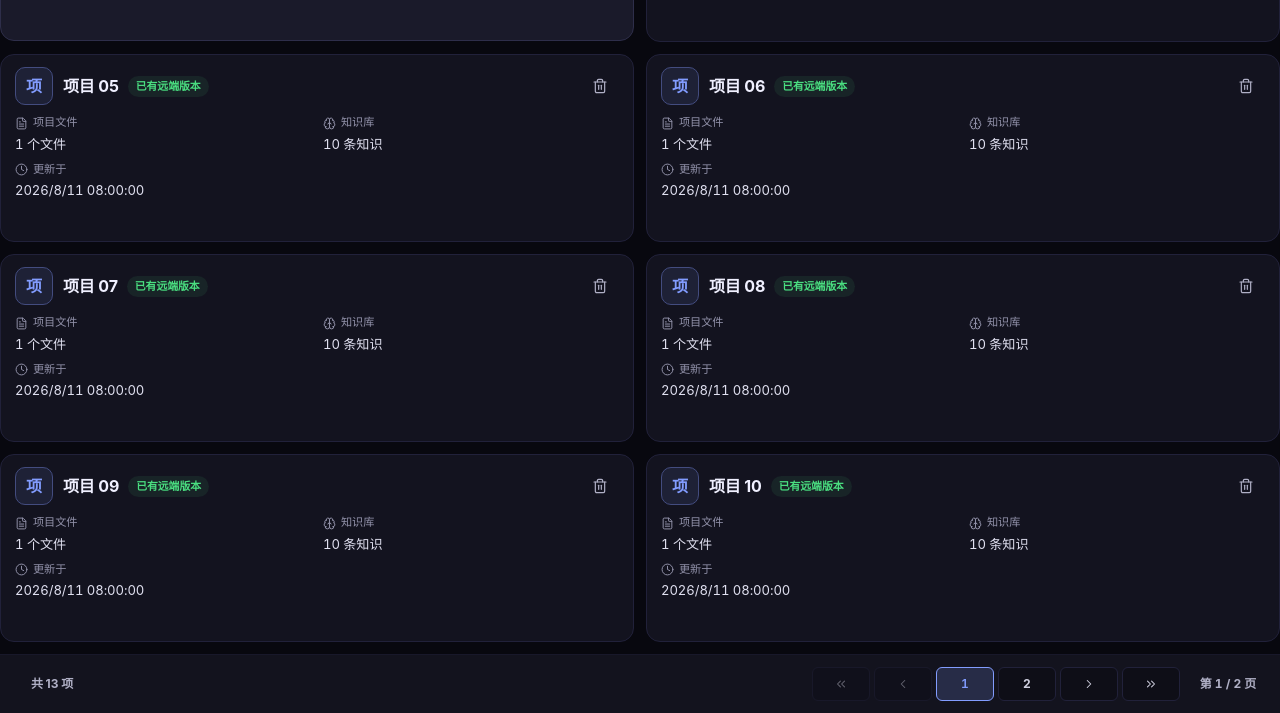
Test: ProjectRegistry list UX › loads knowledge previews only for projects on the visible page
(page scrolled)
Click the button named "下一页" at (1089, 684), box [1060, 667, 1118, 701]
(page scrolled)
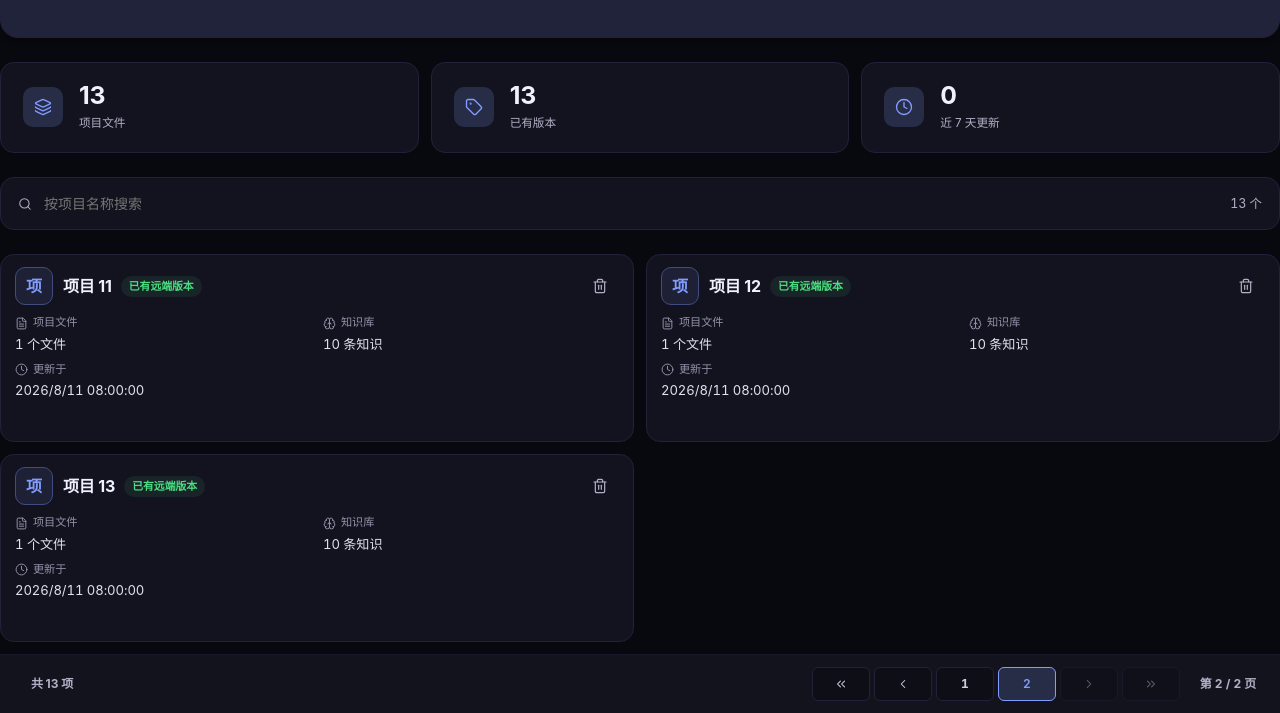
Check: the heading "项目 11" is shown, box [63, 276, 112, 297]
